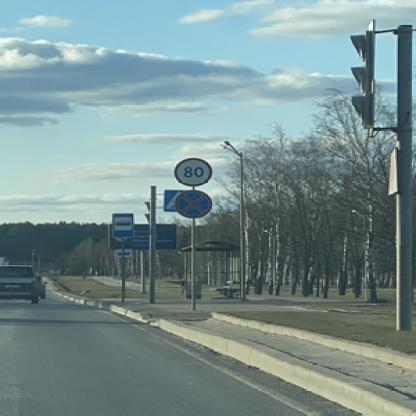speedlimit: (172, 157, 211, 185)
